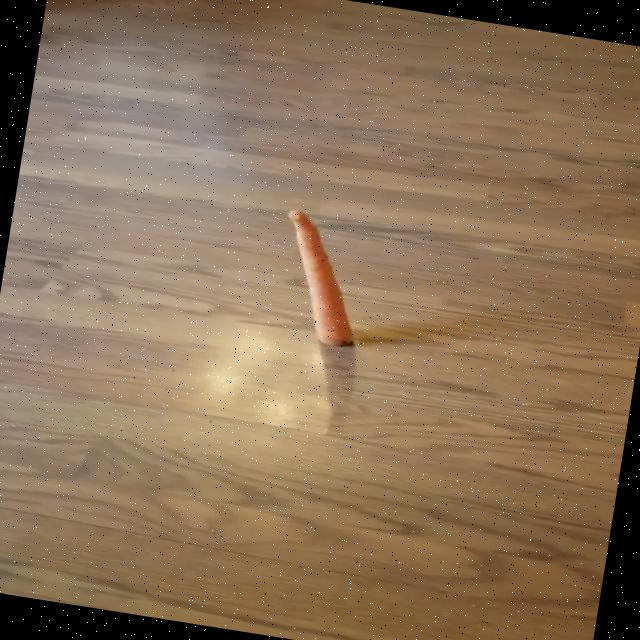carrot: (288, 211, 352, 346)
